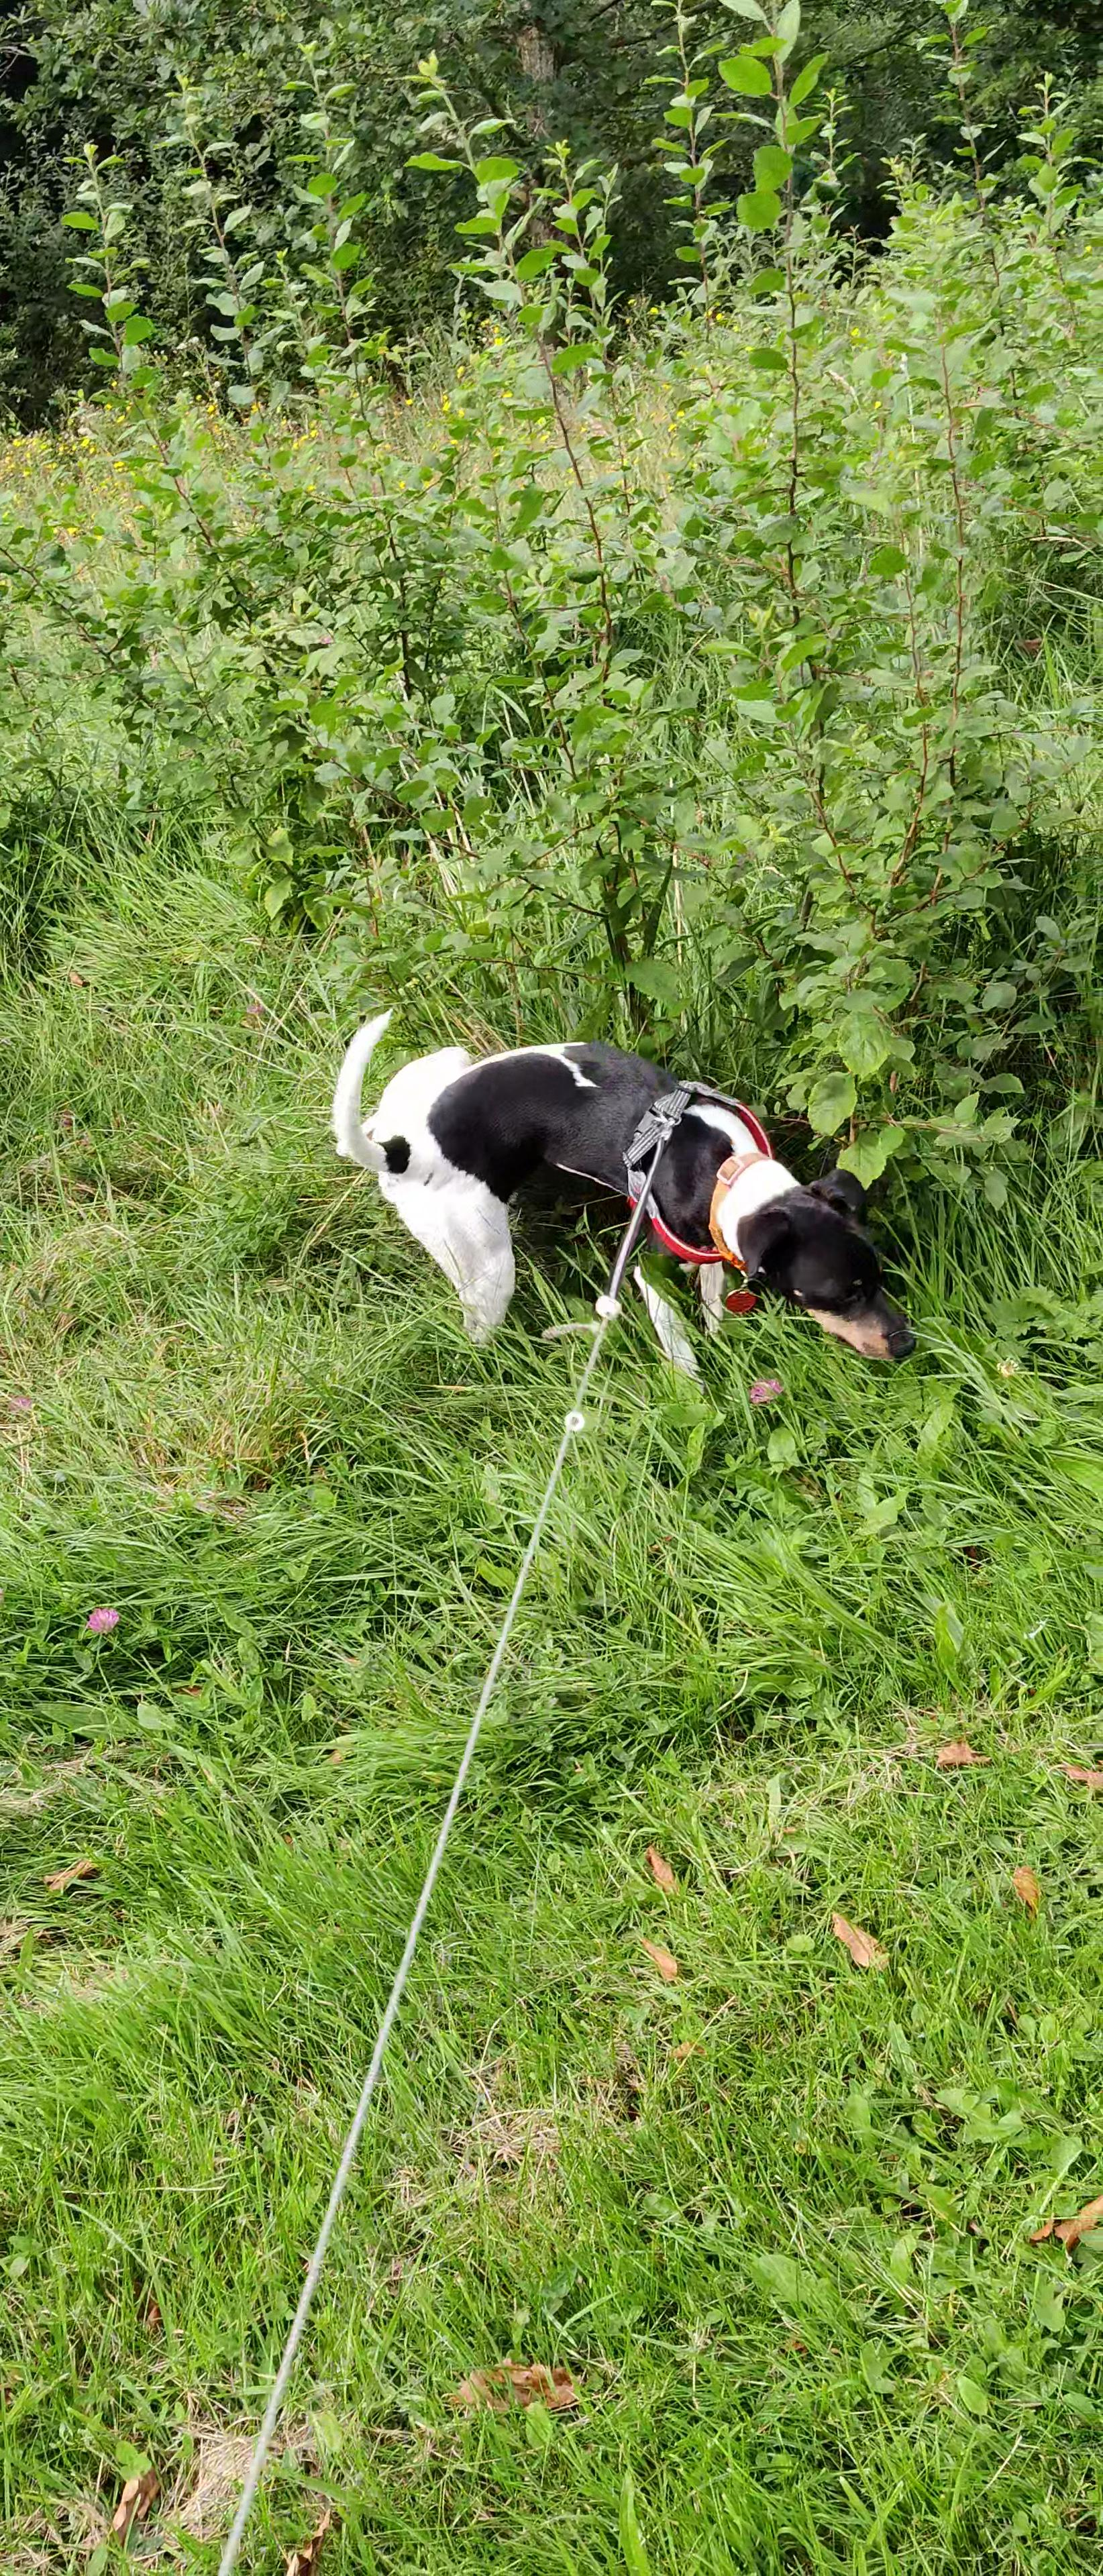Dog: (325, 1005, 919, 1377)
